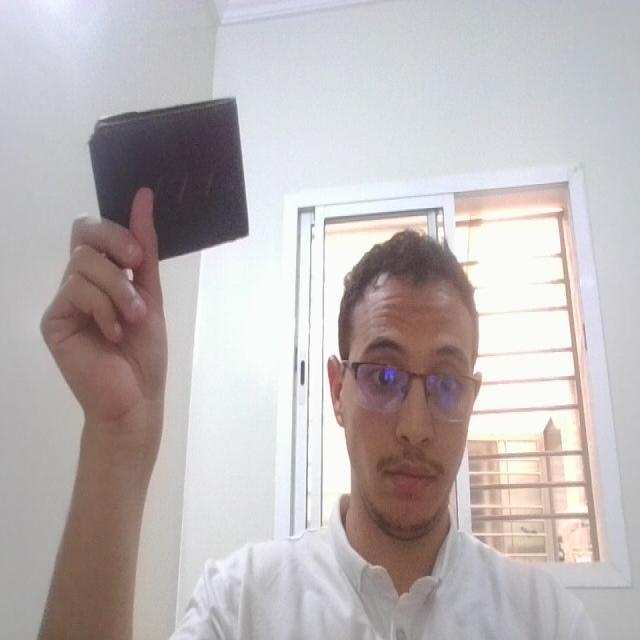wallet: (86, 87, 258, 274)
